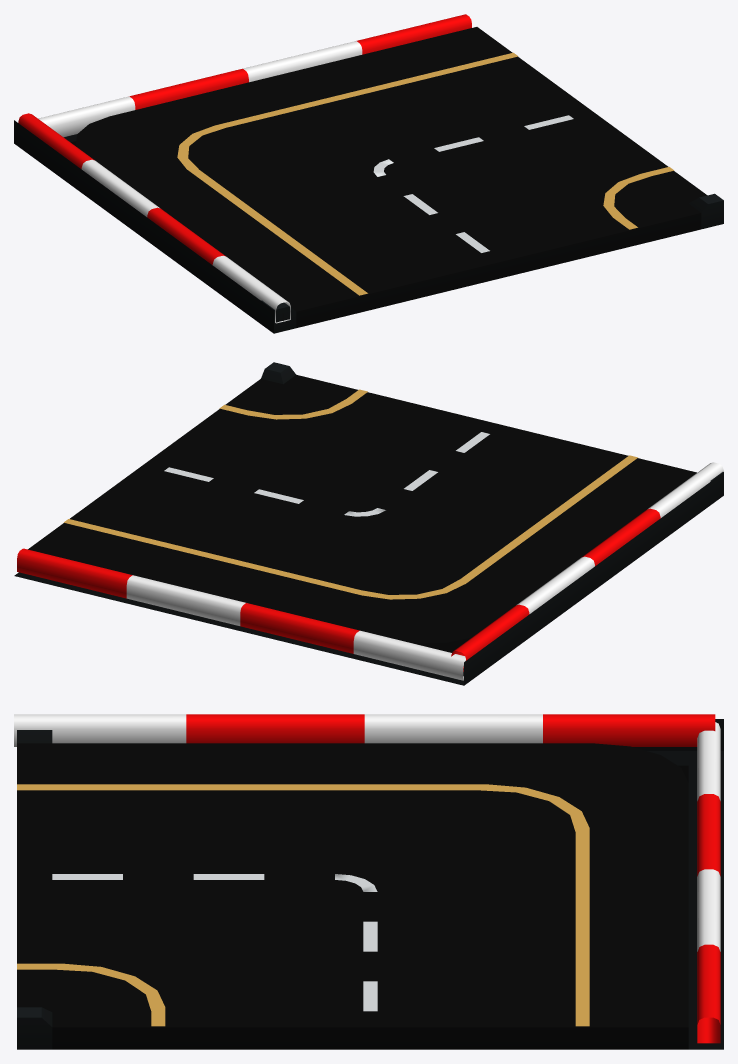
3 views of the same model, one above another, from view 1: azimuth 30°, elevation 25°; view 2: azimuth 150°, elevation 25°; view 3: azimuth 270°, elevation 25° (orthographic). The views are drawn at different scales.
Visible parts, largest first — view 1: road_corner_Cube.948_road_corner_Cube.948, StraightTrack01_Cube.002_StraightTrack01_Cube.001-Mesh.001, StraightTrack01_Cube.001_StraightTrack01_Cube.001-Mesh.002; view 2: road_corner_Cube.948_road_corner_Cube.948, StraightTrack01_Cube.002_StraightTrack01_Cube.001-Mesh.001, StraightTrack01_Cube.001_StraightTrack01_Cube.001-Mesh.002; view 3: road_corner_Cube.948_road_corner_Cube.948, StraightTrack01_Cube.001_StraightTrack01_Cube.001-Mesh.002, StraightTrack01_Cube.002_StraightTrack01_Cube.001-Mesh.001.
Boxes of the visible parts, box(x1,y1,x2,y2) form: road_corner_Cube.948_road_corner_Cube.948: box(14, 27, 723, 333); StraightTrack01_Cube.002_StraightTrack01_Cube.001-Mesh.001: box(38, 14, 471, 137); StraightTrack01_Cube.001_StraightTrack01_Cube.001-Mesh.002: box(18, 113, 290, 323); road_corner_Cube.948_road_corner_Cube.948: box(14, 362, 723, 685); StraightTrack01_Cube.002_StraightTrack01_Cube.001-Mesh.001: box(17, 548, 465, 680); StraightTrack01_Cube.001_StraightTrack01_Cube.001-Mesh.002: box(451, 462, 723, 671); road_corner_Cube.948_road_corner_Cube.948: box(17, 719, 723, 1049); StraightTrack01_Cube.001_StraightTrack01_Cube.001-Mesh.002: box(14, 714, 715, 746); StraightTrack01_Cube.002_StraightTrack01_Cube.001-Mesh.001: box(697, 722, 720, 1043).
Size of the model in its own units: 2 by 0.1261 by 2.01.
Materials: 4 (1 with a texture image).
